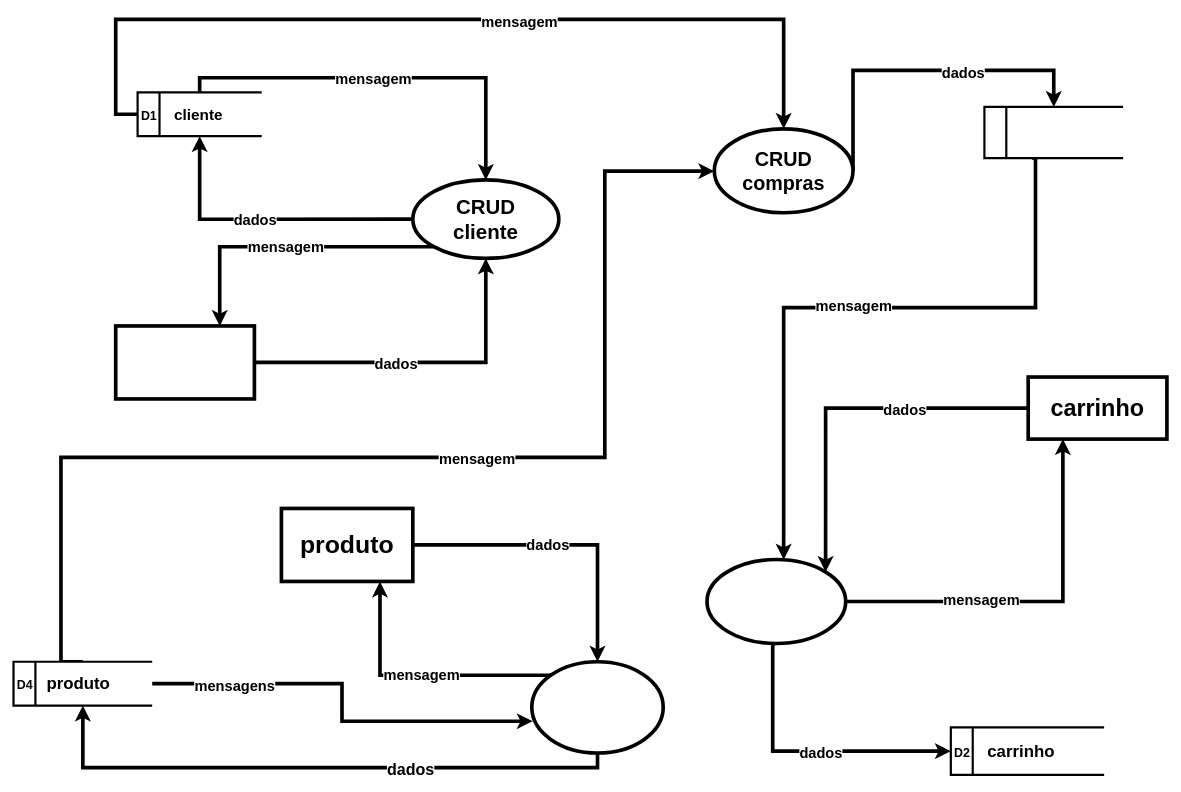
Some shapes in this 1181 by 792 pixel diagram are drawn without their labels. Here are the shapes that lost their labels. From the top down, the centre of each, then its label:
the point at 1053,132: D4 compras
the point at 185,362: cliente
the point at 776,601: CRUD carrinho
the point at 597,707: CRUD produto
